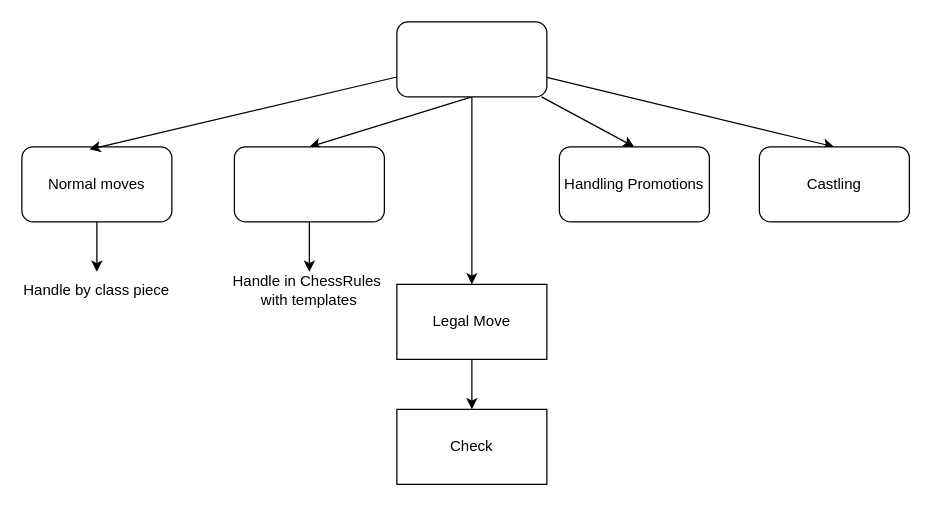
The diagram is 931 pixels wide and 506 high, and some of its shapes have lost their labels. The shapes that lost their labels are listed below. From the top down, each one's centre as x and y in pixels, then its label:
point 471,59: Pseudo-Legal Move
point 308,184: Captures (including en passant)
